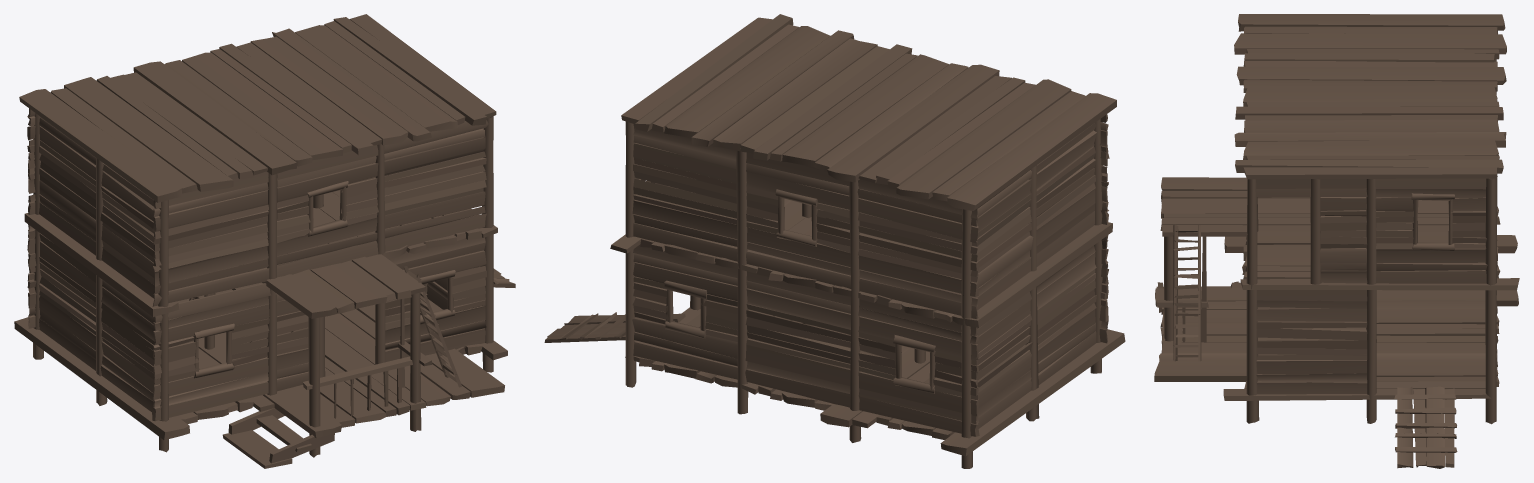
File: -LOD1_hut_005.fbx
3 renders of one model, left to right at view 1: azimuth 30°, elevation 25°; view 2: azimuth 150°, elevation 25°; view 3: azimuth 270°, elevation 25°, orthographic. The views are drawn at different scales.
Visible parts, largest first — view 1: Cylinder.006; view 2: Cylinder.006; view 3: Cylinder.006.
Boxes of the visible parts, box(x1,y1,x2,y2) form: Cylinder.006: box(14, 14, 515, 468); Cylinder.006: box(544, 14, 1125, 468); Cylinder.006: box(1154, 14, 1519, 468).
Size of the model in its own units: 1640 by 931 by 1223.
